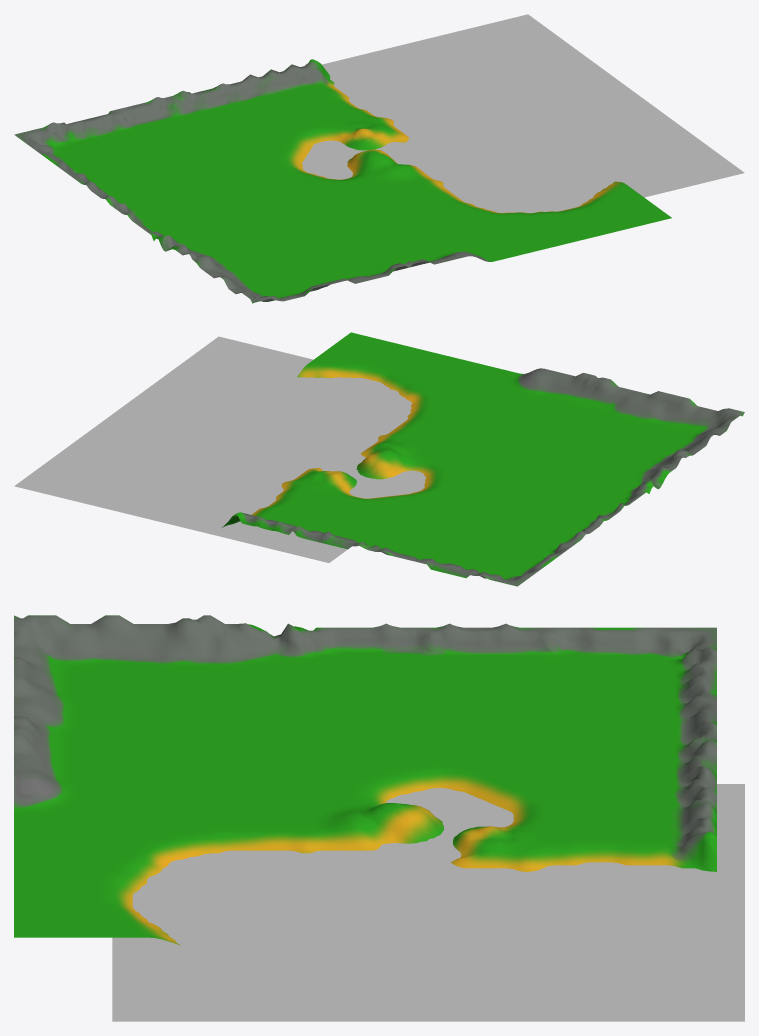
File: PirateIsland2.fbx
The picture shows the model from 3 angles, top to bottom: view 1: azimuth 30°, elevation 25°; view 2: azimuth 150°, elevation 25°; view 3: azimuth 270°, elevation 25°; orthographic projection. The views are drawn at different scales.
Visible parts, largest first — view 1: IslandTerrain, OceanSurface; view 2: IslandTerrain, OceanSurface; view 3: IslandTerrain, OceanSurface.
Part boxes in pixels (left/top/right/bottom): IslandTerrain: left=14, top=59, right=671, bottom=303; OceanSurface: left=302, top=14, right=744, bottom=213; IslandTerrain: left=222, top=332, right=744, bottom=586; OceanSurface: left=14, top=336, right=425, bottom=562; IslandTerrain: left=14, top=615, right=716, bottom=945; OceanSurface: left=112, top=784, right=744, bottom=1021.
Size of the model in its own units: 62.75 by 2.92 by 52.
Materials: 2 (1 with a texture image).
